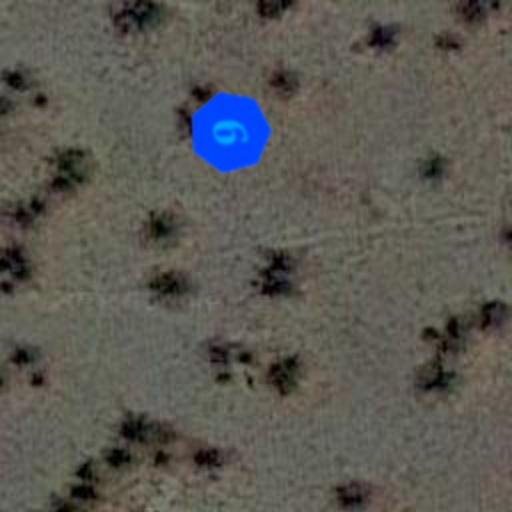heptagon: (178, 80, 282, 184)
